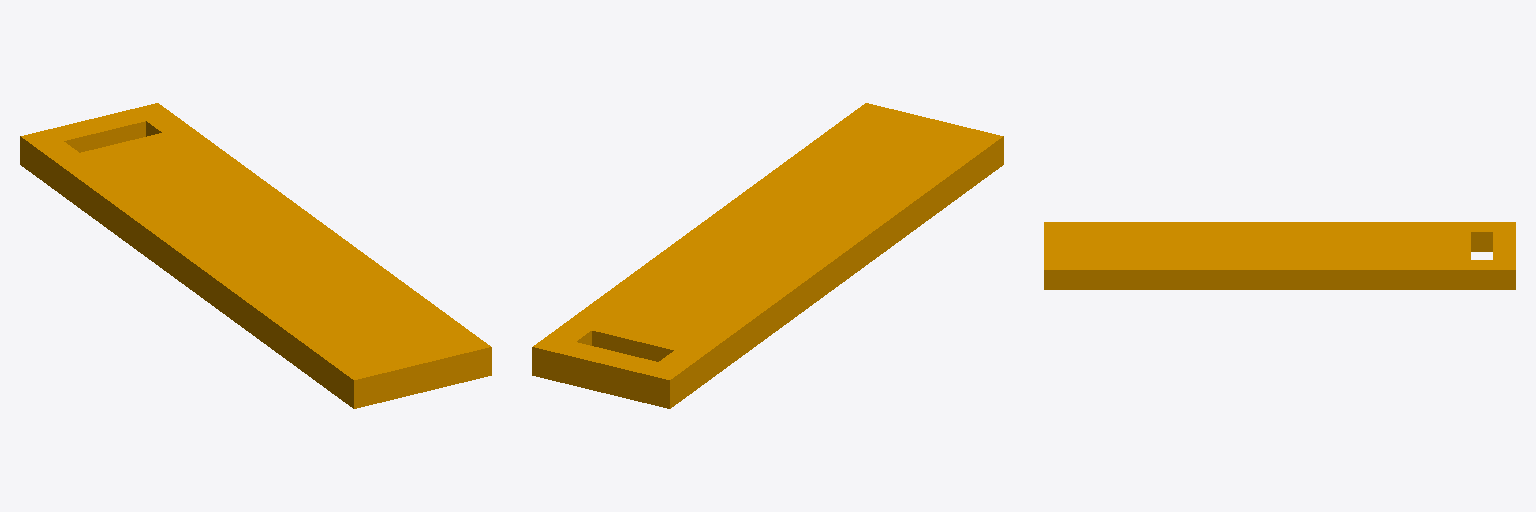
robot.urdf — dummy_long.urdf:
<?xml version="1.0" ?>
<robot name="dummy_long.urdf">
  <link name="world">
    <contact>
      <lateral_friction value="0.5"/>
      <rolling_friction value="0.5"/>
      <contact_cfm value="0.0"/>
      <contact_erp value="1.0"/>
    </contact>
    <inertial>
      <origin rpy="0 0 0" xyz="0.01 0.01 0.01"/>
       <mass value="0.1"/>
       <inertia
        ixx="5.5211E-06"
        ixy="7.112E-10"
        ixz="1.1552E-10"
        iyy="4.736E-05"
        iyz="5.0227E-11"
        izz="4.7564E-05" />
    </inertial>
    <visual>
      <origin rpy="0 0 0" xyz="0 0 0"/>
      <geometry>
        <mesh filename="dummy_long.obj" scale="1 1 1"/>
      </geometry>
    </visual>
    <collision>
      <origin rpy="0 0 0" xyz="0 0 0"/>
      <geometry>
	 	<mesh filename="dummy_long.obj" scale="1 1 1"/>
      </geometry>
    </collision>
  </link>
</robot>

--- Render facts (derived) ---
Views: 3 orthographic renders of the robot side by side, from view 1: azimuth 30°, elevation 25°; view 2: azimuth 150°, elevation 25°; view 3: azimuth 270°, elevation 25°.
Robot: dummy_long.urdf — 1 links, 0 joints (none); root link world; default pose: every joint at zero.
Links seen in each view (by area): view 1: world; view 2: world; view 3: world.
Link boxes in pixels (x1,y1,x2,y2): world: (20, 103, 491, 408); world: (532, 103, 1003, 408); world: (1044, 222, 1515, 289).
Bounding box of the posed robot: 0.05 × 0.21 × 0.01 m (x, y, z).
Meshes: 1 distinct files referenced, 1 mesh visuals loaded (1 OBJ).